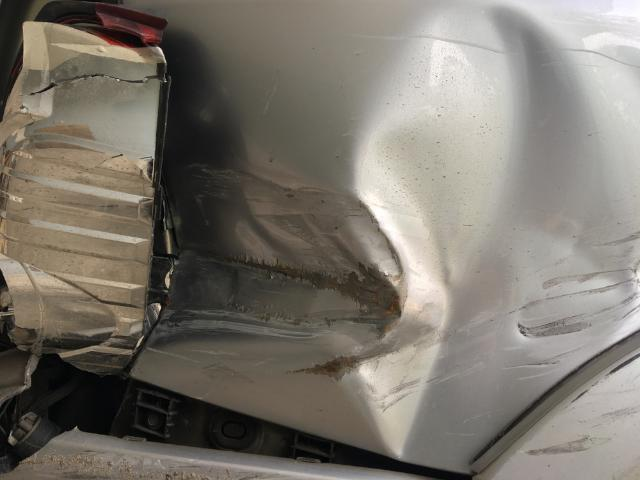crack: (25, 72, 161, 96)
dent: (149, 0, 640, 466)
scratch: (521, 344, 640, 460)
